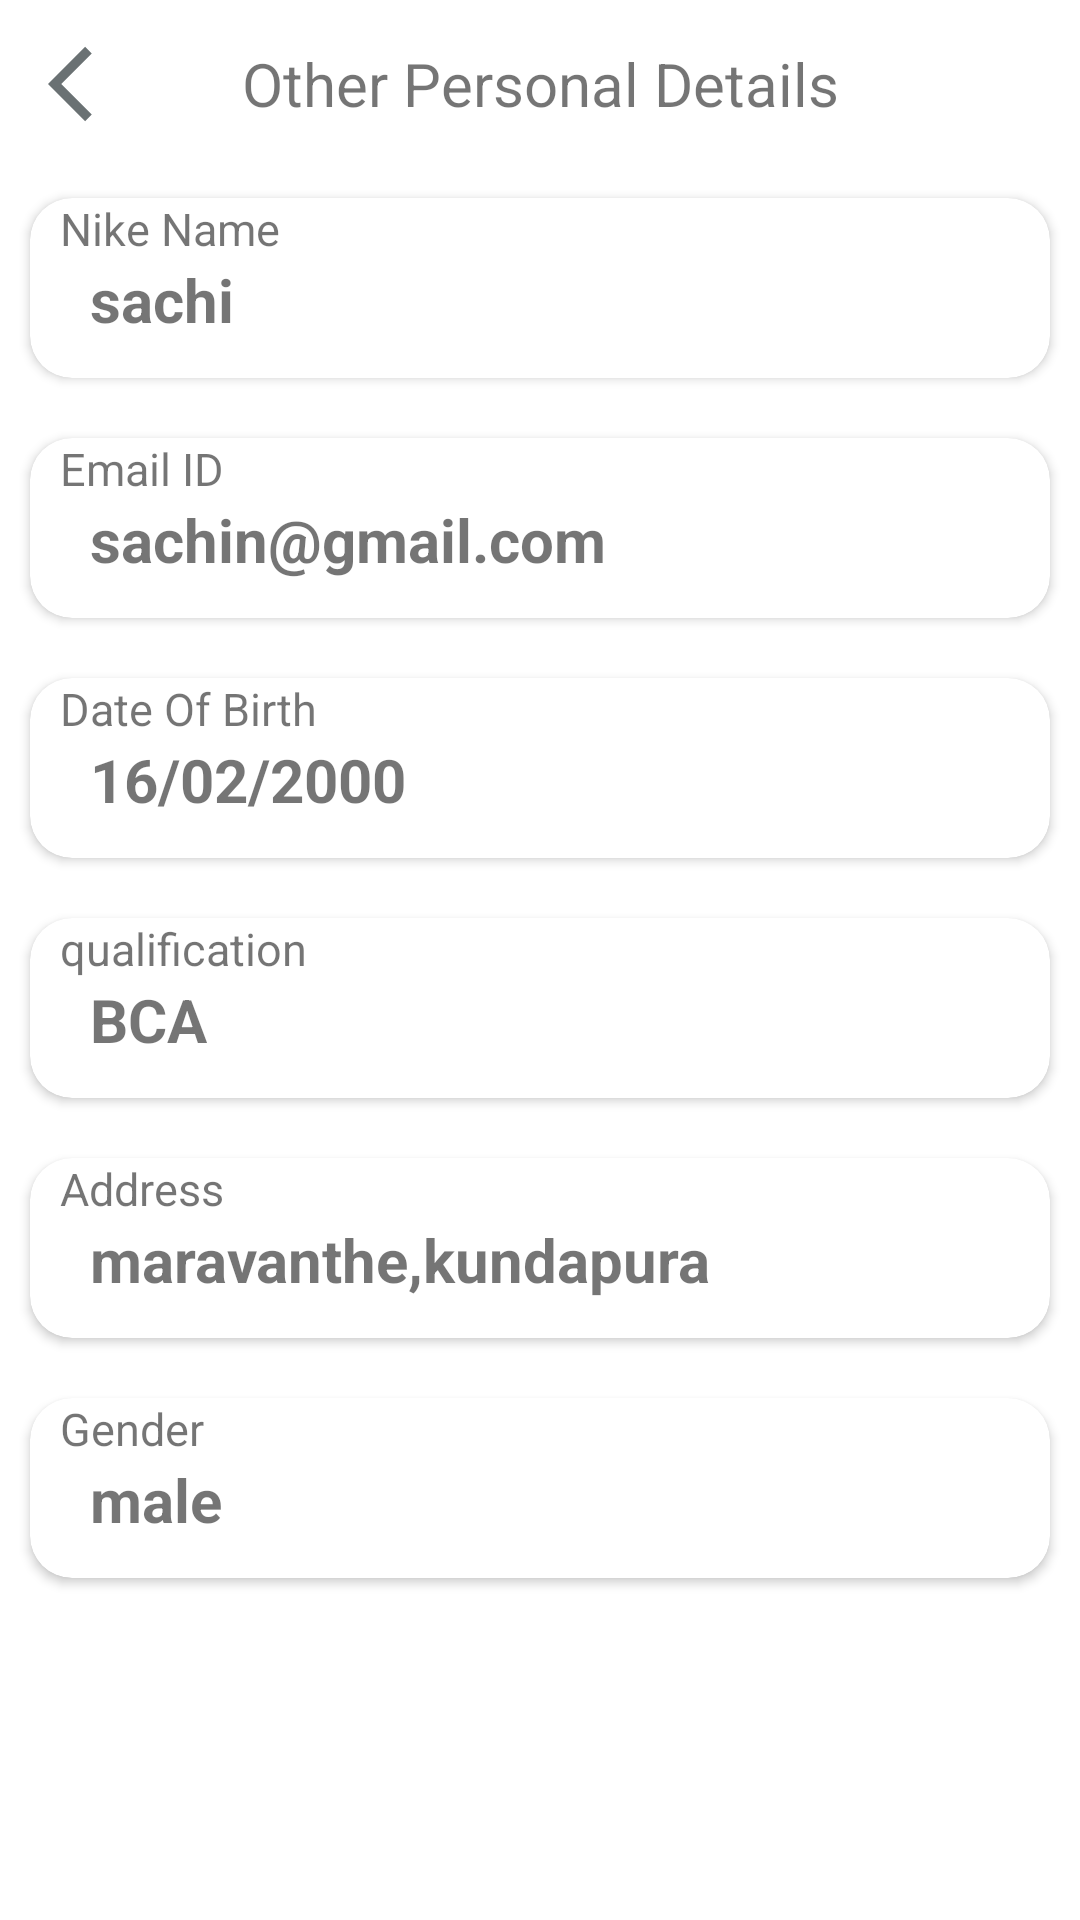

Screen size 1080*1920. Icon name, then its center in pixels as (x=x, y=y):
back: (x=70, y=84)
